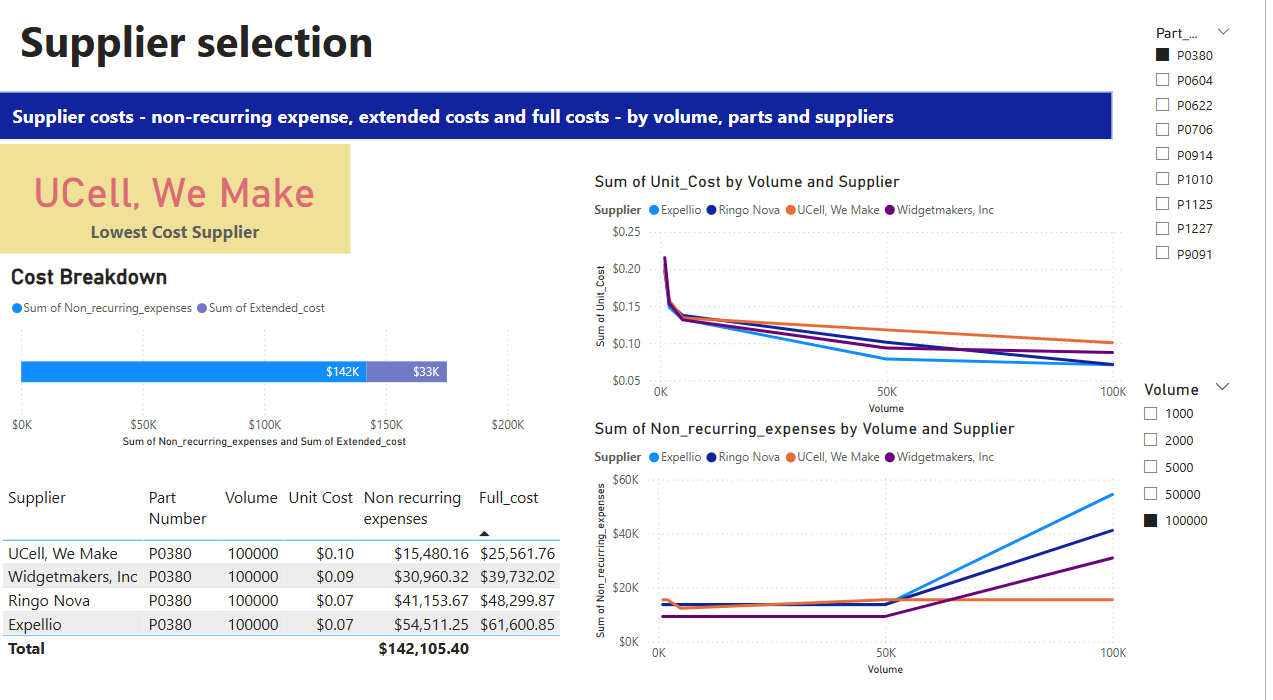

What the dashboard file says about the page in this screenshot:
{"tool":"powerbi","page":{"name":"Supplier Selection","canvas":[1280,720],"ordinal":0},"visuals":[{"type":"shape","box":[1.7,101.7,1124.5,49],"z":0,"group":"g1"},{"type":"tableEx","fields":{"Values":["Quotes.Supplier","Quotes.Part_Number","Quotes.Volume","Quotes.Unit_Cost","Sum(Quotes.Non_recurring_expenses)","Quotes.Full_cost"]},"box":[0,493.2,596.6,200],"z":0},{"type":"textbox","box":[10.6,107.7,1161.9,47.4],"z":1000,"group":"g1"},{"type":"lineChart","fields":{"Category":["Quotes.Volume"],"Y":["Sum(Quotes.Unit_Cost)"],"Series":["Quotes.Supplier"]},"box":[598.3,181.1,546.6,250],"z":1000},{"type":"lineChart","fields":{"Category":["Quotes.Volume"],"Y":["Sum(Quotes.Non_recurring_expenses)"],"Series":["Quotes.Supplier"]},"box":[598.3,431.1,546.6,263.8],"z":2000},{"type":"slicer","fields":{"Values":["Quotes.Part_Number"]},"box":[1157,29.3,100,303.5],"z":3000},{"type":"slicer","fields":{"Values":["Quotes.Volume"]},"box":[1144.9,386.2,112.1,260.4],"z":4000},{"type":"card","fields":{"Values":["Min(Quotes.Supplier)"]},"box":[1.7,155.2,355.2,110.4],"z":5000},{"type":"barChart","title":"Cost Breakdown","fields":{"Y":["Sum(Quotes.Non_recurring_expenses)","Sum(Quotes.Extended_cost)"]},"box":[8.6,275.9,527.6,189.7],"z":6000},{"type":"group","id":"g1","title":"Group 1","box":[1.7,101.7,1172.5,53.5],"z":7000},{"type":"textbox","box":[18.9,15.1,580.2,71.8],"z":8000}]}

Visuals, with their boxes in screenshot pixels (x1, y1, x2, y2), scaled from the page's 1280x720 canvas onto the 1273x700 screenshot:
shape: BBox(2, 99, 1120, 147)
tableEx - Quotes.Supplier x Quotes.Part_Number: BBox(0, 480, 593, 674)
textbox: BBox(11, 105, 1166, 151)
lineChart - Quotes.Volume x Sum(Quotes.Unit_Cost): BBox(595, 176, 1139, 419)
lineChart - Quotes.Volume x Sum(Quotes.Non_recurring_expenses): BBox(595, 419, 1139, 676)
slicer - Quotes.Part_Number: BBox(1151, 28, 1250, 324)
slicer - Quotes.Volume: BBox(1139, 375, 1250, 629)
card - Min(Quotes.Supplier): BBox(2, 151, 355, 258)
"Cost Breakdown" barChart: BBox(9, 268, 533, 453)
"Group 1" group: BBox(2, 99, 1168, 151)
textbox: BBox(19, 15, 596, 84)
